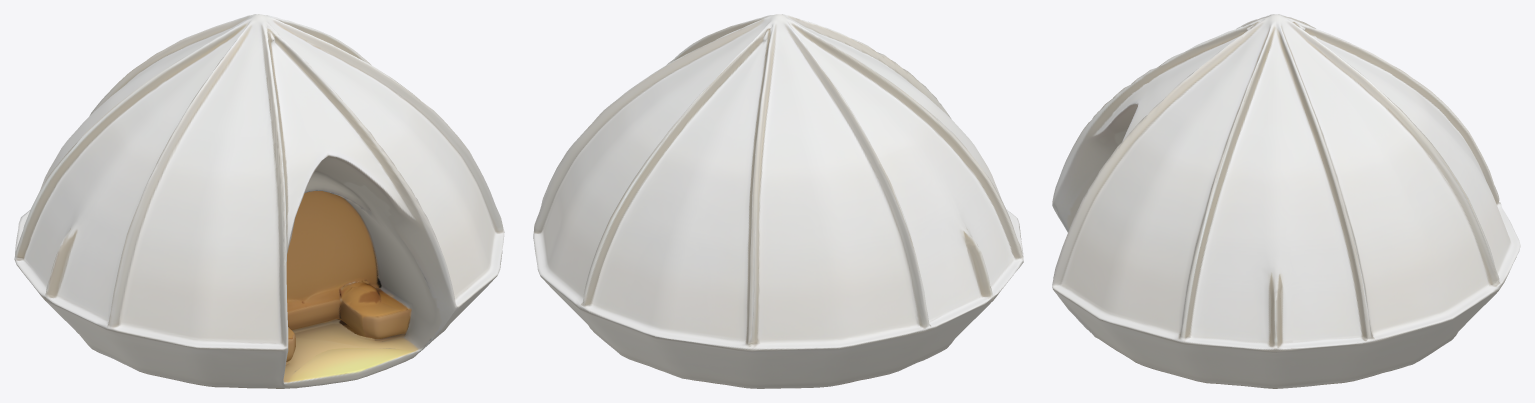
The model's file is base_basic_shaded.glb.
3 views of the same model, side by side, from view 1: azimuth 30°, elevation 25°; view 2: azimuth 150°, elevation 25°; view 3: azimuth 270°, elevation 25° (orthographic).
Parts seen in each view (by area): view 1: model; view 2: model; view 3: model.
Part boxes in pixels (x1,y1,x2,y2): model: (14, 14, 504, 388); model: (533, 14, 1023, 388); model: (1052, 14, 1520, 388).
Size of the model in its own units: 1.89 by 1.27 by 1.79.
1 material, 1 textured.
